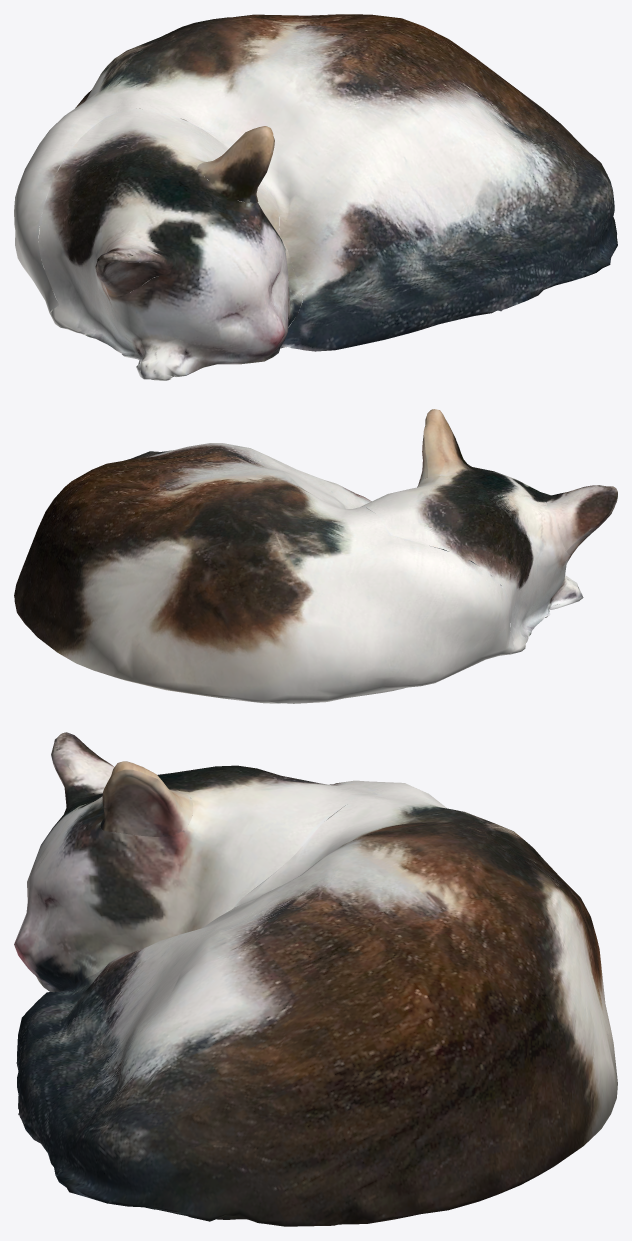
The picture shows the model from 3 angles, top to bottom: view 1: azimuth 30°, elevation 25°; view 2: azimuth 150°, elevation 25°; view 3: azimuth 270°, elevation 25°; orthographic projection. The views are drawn at different scales.
Visible parts, largest first — view 1: sc; view 2: sc; view 3: sc.
Boxes of the visible parts, x1,y1,x2,y2 form: sc: [14, 14, 617, 380]; sc: [14, 409, 617, 703]; sc: [14, 732, 617, 1226].
Size of the model in its own units: 2.2 by 0.7488 by 1.68.
1 material, 1 textured.
